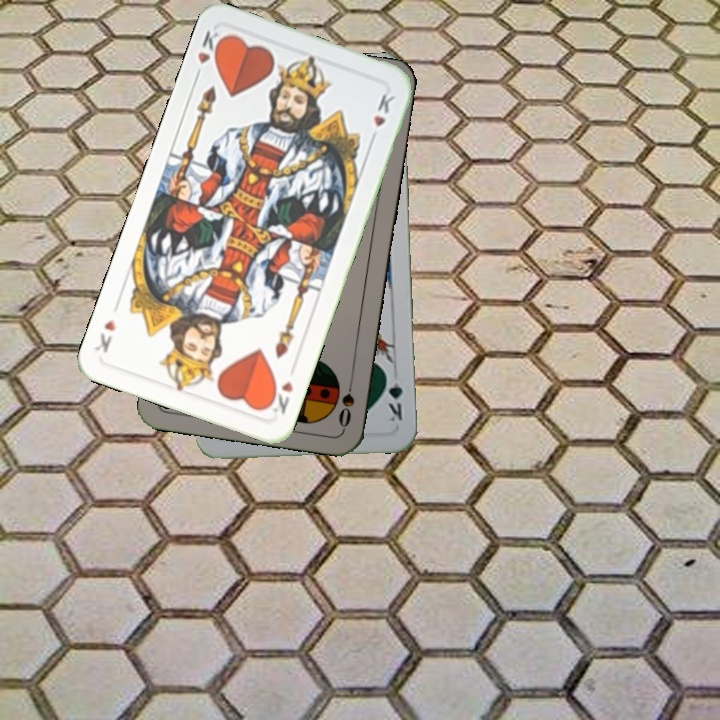GK: (382, 368, 406, 425)
HK: (190, 25, 228, 82), (263, 377, 296, 417)
SO: (334, 371, 357, 430)
